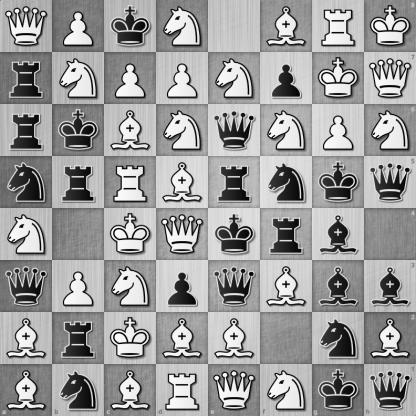B: (0, 364, 52, 416), (104, 364, 156, 416), (364, 312, 416, 364), (1, 313, 52, 364), (105, 105, 156, 156), (157, 157, 208, 208), (157, 313, 208, 364), (209, 313, 260, 364), (261, 1, 312, 52), (261, 261, 312, 312)
K: (364, 0, 416, 52), (105, 209, 156, 260), (105, 313, 156, 364), (313, 53, 364, 104)
N: (260, 364, 312, 416), (364, 104, 416, 156), (1, 209, 52, 260), (53, 53, 104, 104), (105, 261, 156, 312), (157, 1, 208, 52), (157, 105, 208, 156), (209, 53, 260, 104), (261, 105, 312, 156)
P: (53, 1, 104, 52), (53, 261, 104, 312), (105, 53, 156, 104), (157, 53, 208, 104), (313, 105, 364, 156)
Q: (364, 52, 416, 104), (209, 364, 260, 416), (1, 1, 52, 52), (157, 209, 208, 260)
R: (156, 364, 209, 416), (105, 157, 156, 208), (313, 1, 364, 52)
b: (364, 260, 416, 312), (313, 209, 364, 260), (313, 261, 364, 312)
board: (0, 0, 415, 415)
k: (312, 364, 364, 416), (53, 105, 104, 156), (105, 1, 156, 52), (209, 209, 260, 260), (313, 157, 364, 208)
n: (52, 364, 104, 416), (1, 157, 52, 208), (261, 157, 312, 208), (313, 313, 364, 364)
p: (157, 261, 208, 312), (261, 53, 312, 104)
q: (364, 156, 416, 209), (364, 364, 416, 416), (1, 261, 52, 312), (209, 105, 260, 156), (209, 261, 260, 312)
r: (1, 53, 52, 104), (1, 105, 52, 156), (53, 157, 104, 208), (53, 313, 104, 364), (209, 157, 260, 208), (261, 209, 312, 260)
